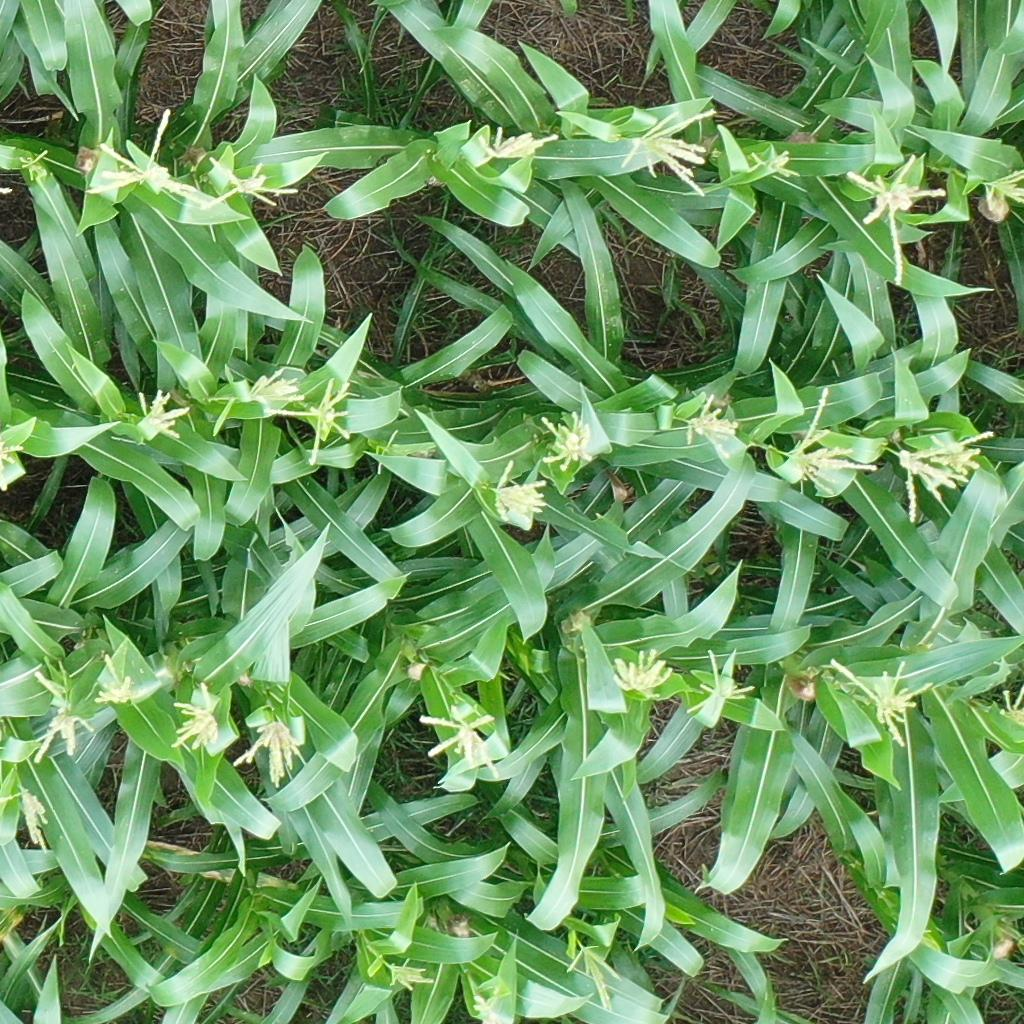Tassel: (842, 156, 945, 286), (83, 108, 203, 210), (783, 387, 875, 499), (896, 428, 997, 526), (616, 108, 722, 199), (830, 656, 929, 748), (264, 378, 353, 467), (417, 705, 507, 777), (229, 716, 309, 792), (200, 154, 300, 213), (681, 648, 757, 716), (536, 408, 601, 476), (680, 392, 742, 460), (169, 682, 225, 756), (564, 942, 623, 1012), (489, 457, 550, 523), (1, 784, 54, 856), (611, 648, 677, 698), (135, 389, 192, 444), (477, 122, 561, 159), (32, 716, 96, 763), (92, 650, 138, 704), (249, 369, 305, 413), (385, 955, 436, 993), (981, 167, 1024, 209), (752, 145, 798, 183), (471, 983, 512, 1024), (34, 668, 71, 705), (19, 146, 51, 184), (1, 441, 24, 491), (1002, 681, 1024, 725)
